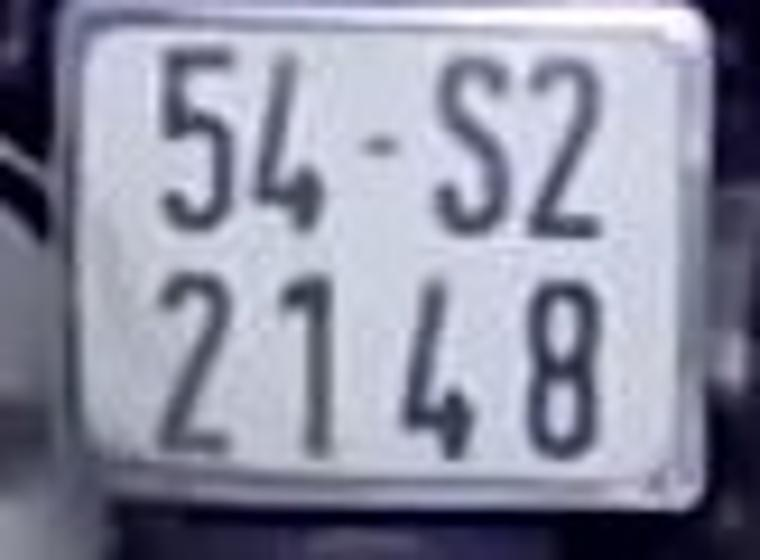-: (365, 135, 397, 155)
1: (279, 269, 338, 456)
2: (155, 268, 232, 456), (527, 56, 598, 239)
4: (404, 279, 470, 464), (255, 51, 321, 231)
5: (161, 47, 232, 230)
8: (527, 279, 600, 463)
S: (431, 52, 507, 231)
